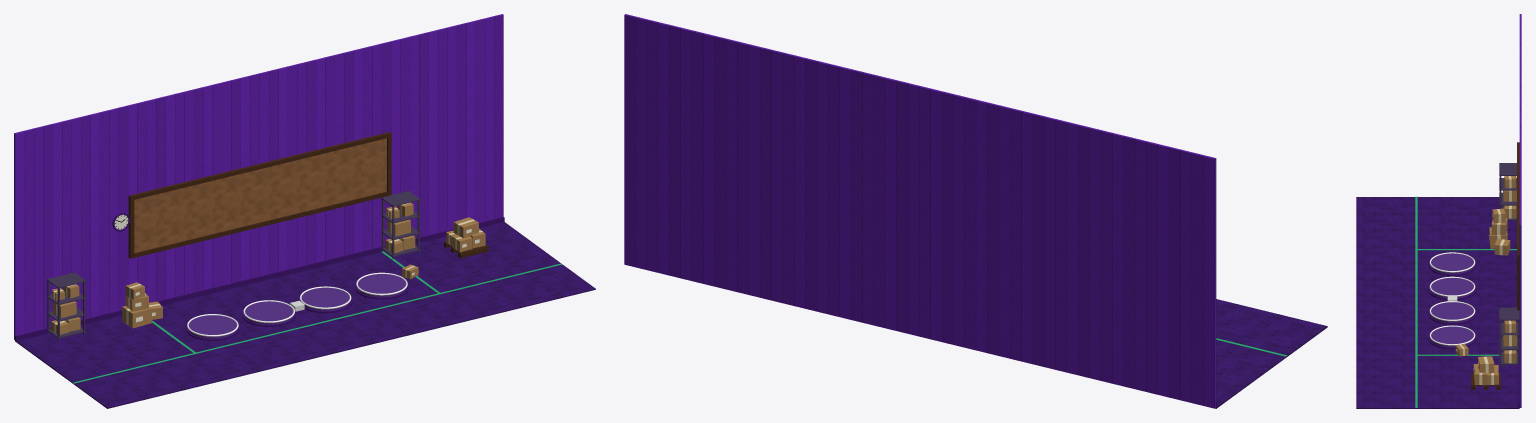
The model's file is MultiplayerLobby.fbx.
3 views of the same model, side by side, from view 1: azimuth 30°, elevation 25°; view 2: azimuth 150°, elevation 25°; view 3: azimuth 270°, elevation 25° (orthographic). The views are drawn at different scales.
Visible parts, largest first — view 1: Depot_Wall, Depot_Floor, Corkboard, Skirting, Corkboard_Frame_Top, Corkboard_Frame_Bottom, Floor_Stripe, Podium4, Podium1, Podium2, Podium3; view 2: Depot_Wall, Depot_Floor; view 3: Depot_Floor, Depot_Wall, Podium1, Podium3, Podium4, Podium2, Floor_Stripe, Corkboard_Frame_Top, Shelf_Board4, Parcel_Pallet5, Shelf_Far_Board4, Shelf_Posts (+8 smaller).
Boxes of the visible parts, x1,y1,x2,y2 form: Depot_Wall: (14,14,503,339); Depot_Floor: (15,222,595,408); Corkboard: (134,138,386,252); Skirting: (15,217,504,340); Corkboard_Frame_Top: (128,132,391,200); Corkboard_Frame_Bottom: (128,191,391,258); Floor_Stripe: (73,263,562,383); Podium4: (357,274,406,297); Podium1: (188,315,237,338); Podium2: (244,301,293,324); Podium3: (300,287,350,310); Depot_Wall: (624,14,1216,408); Depot_Floor: (1215,299,1327,408); Depot_Floor: (1356,197,1519,408); Depot_Wall: (1519,14,1521,407); Podium1: (1430,253,1474,274); Podium3: (1430,302,1474,322); Podium4: (1430,326,1474,347); Podium2: (1430,278,1474,298); Floor_Stripe: (1415,196,1417,407); Corkboard_Frame_Top: (1517,142,1519,258); Shelf_Board4: (1499,307,1519,320); Parcel_Pallet5: (1478,356,1494,373); Shelf_Far_Board4: (1499,163,1516,175); Shelf_Posts: (1499,307,1519,366).
Size of the model in its own units: 10400 by 4300 by 3440.
